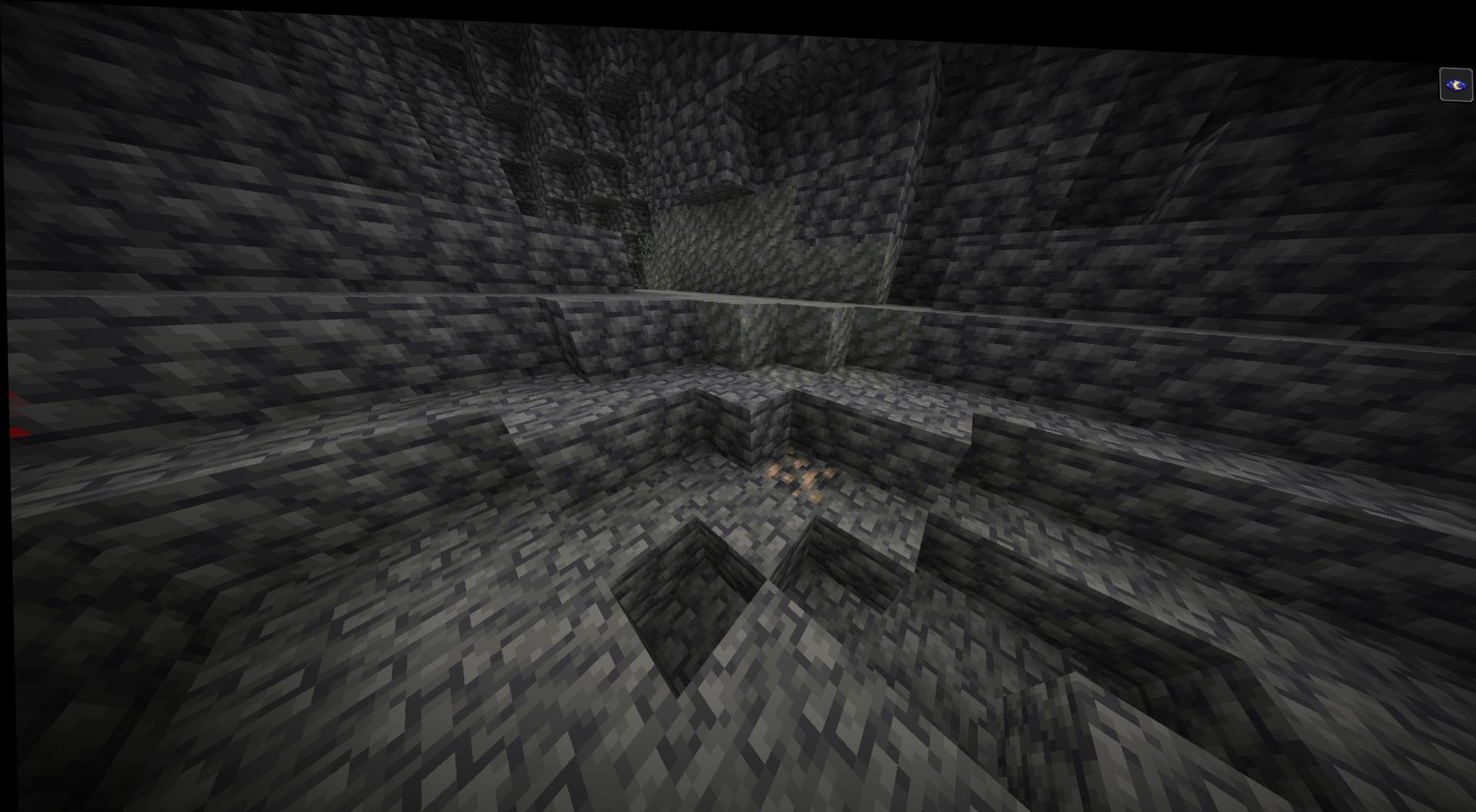iron ore: (764, 434, 833, 493)
